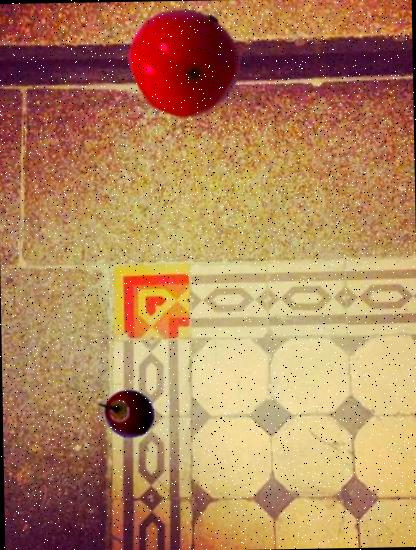Tamarillo: (103, 387, 155, 439)
Tomato: (127, 6, 240, 118)
